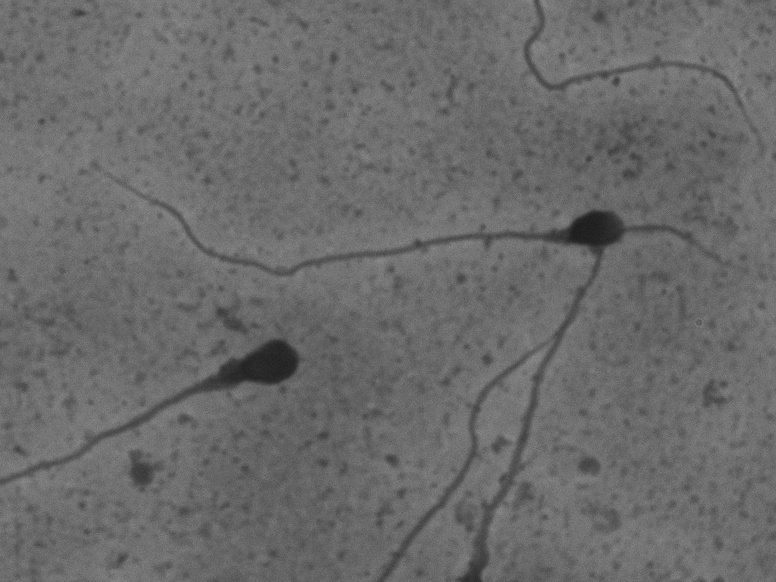Abnormal: (15, 311, 335, 512)
Normal: (84, 139, 629, 285)
